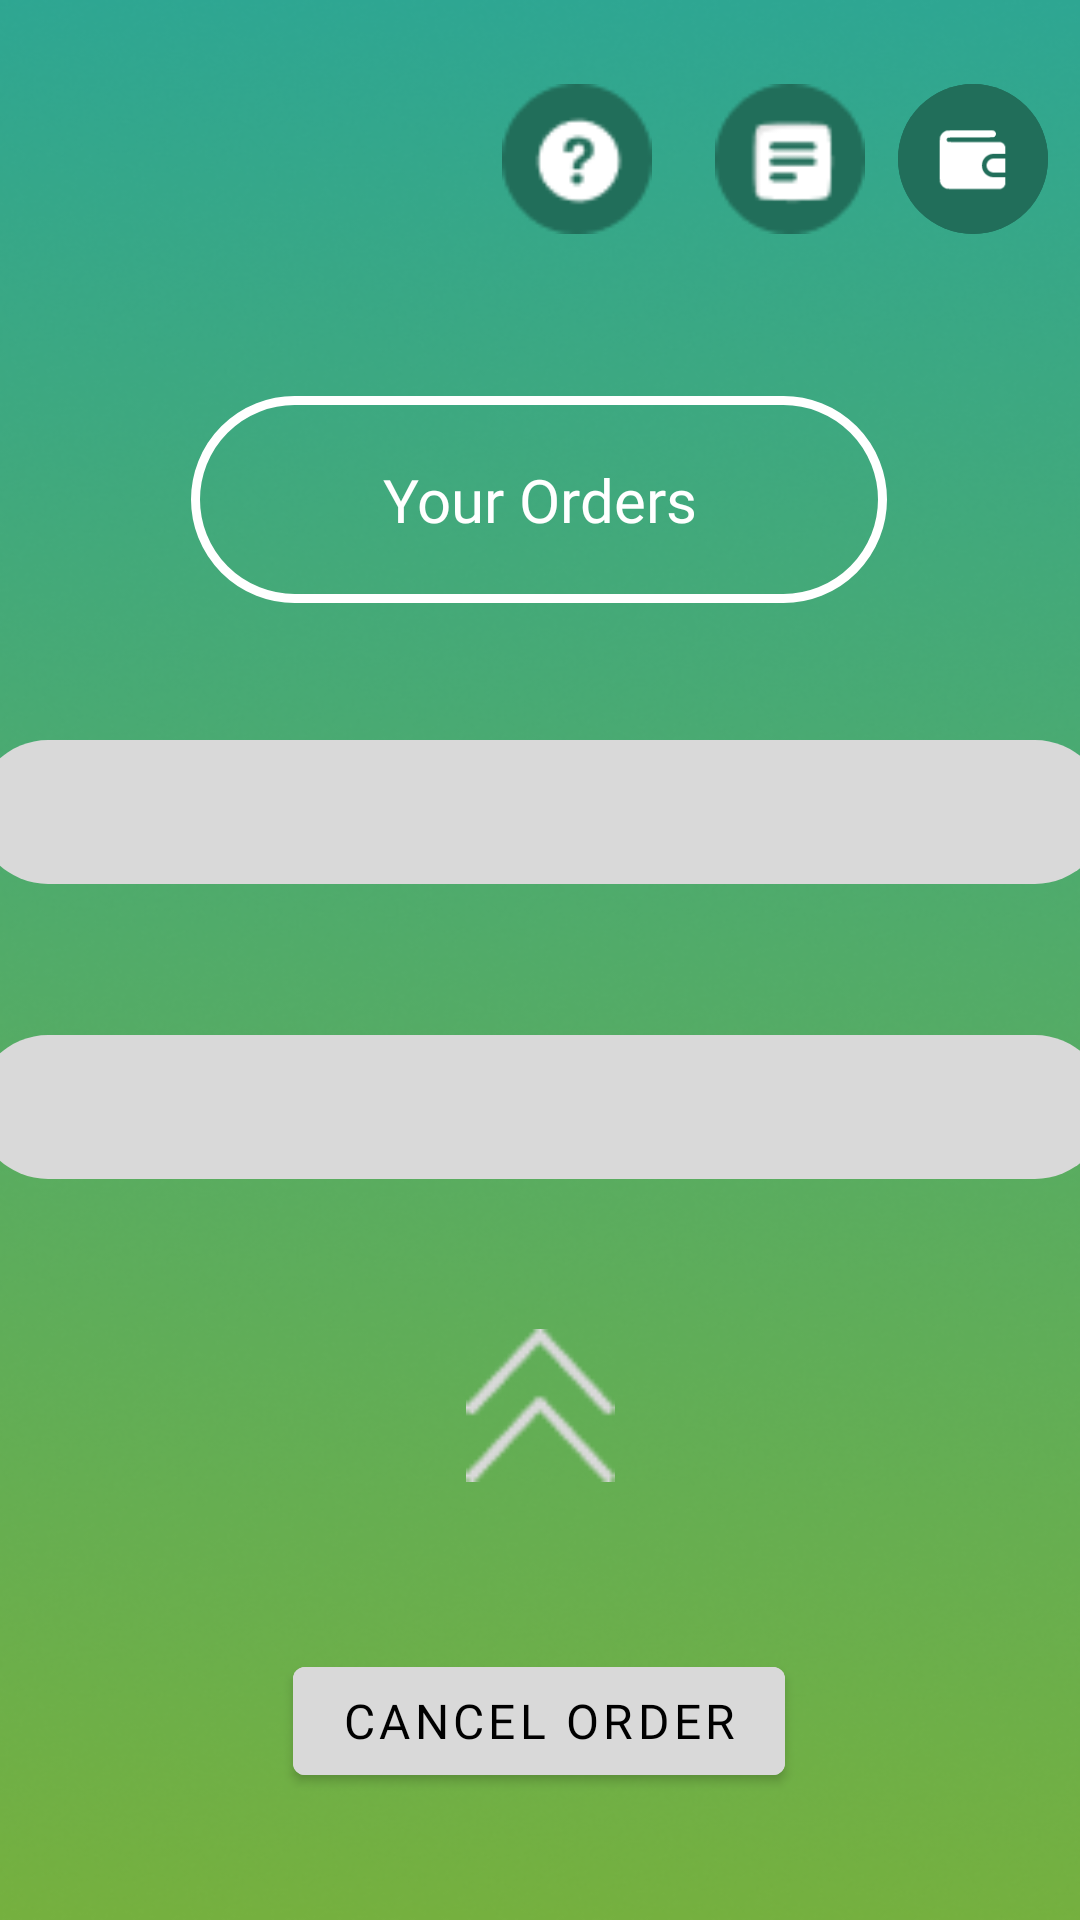

Screen size 1080*1920. Icon name, then its box in pixels as [left=x1, top=y1, right=x2, bottom=y2]:
helpicon: [left=502, top=84, right=652, bottom=234]
orderhistoryicon: [left=715, top=84, right=865, bottom=234]
uparrow: [left=466, top=1329, right=615, bottom=1482]
wallet: [left=898, top=84, right=1048, bottom=234]
